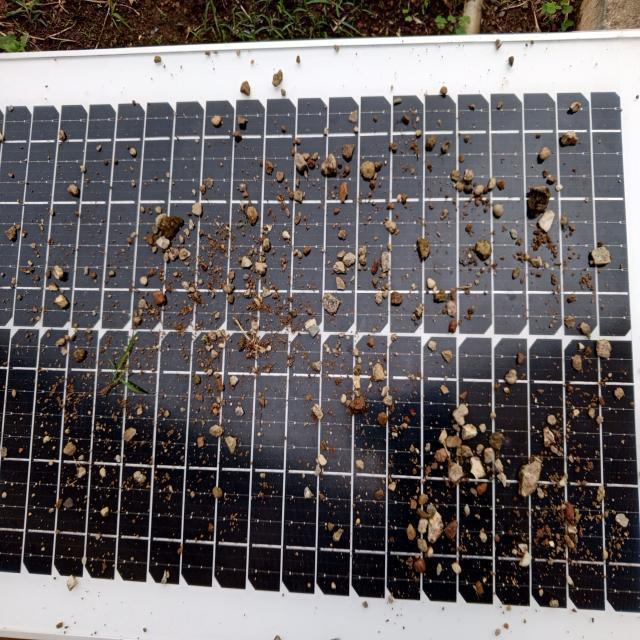Surface Contaminant: (0, 78, 639, 635)
